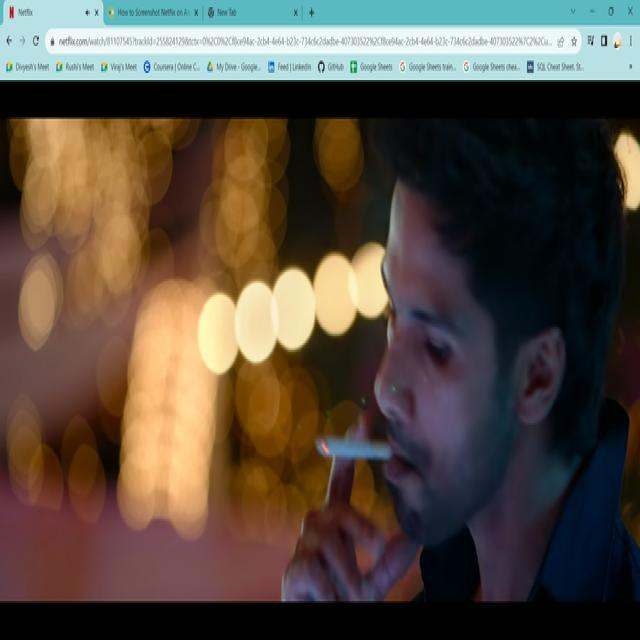smoking: (309, 418, 407, 482)
